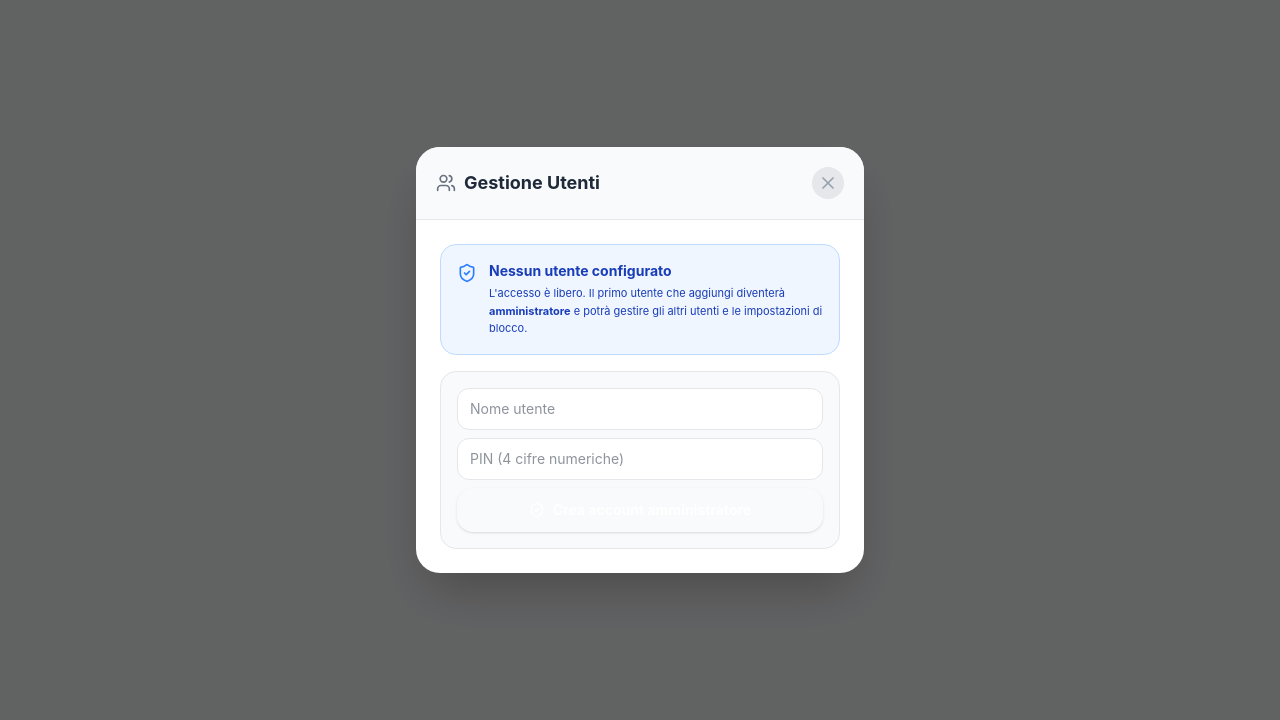
it: AddUserForm validation (first user) › shows an error when the PIN is less than 4 digits
The width and height of the screenshot is (1280, 720).
Type "Mario" into the field with placeholder "Nome utente" at (640, 409), box [457,388,823,430]
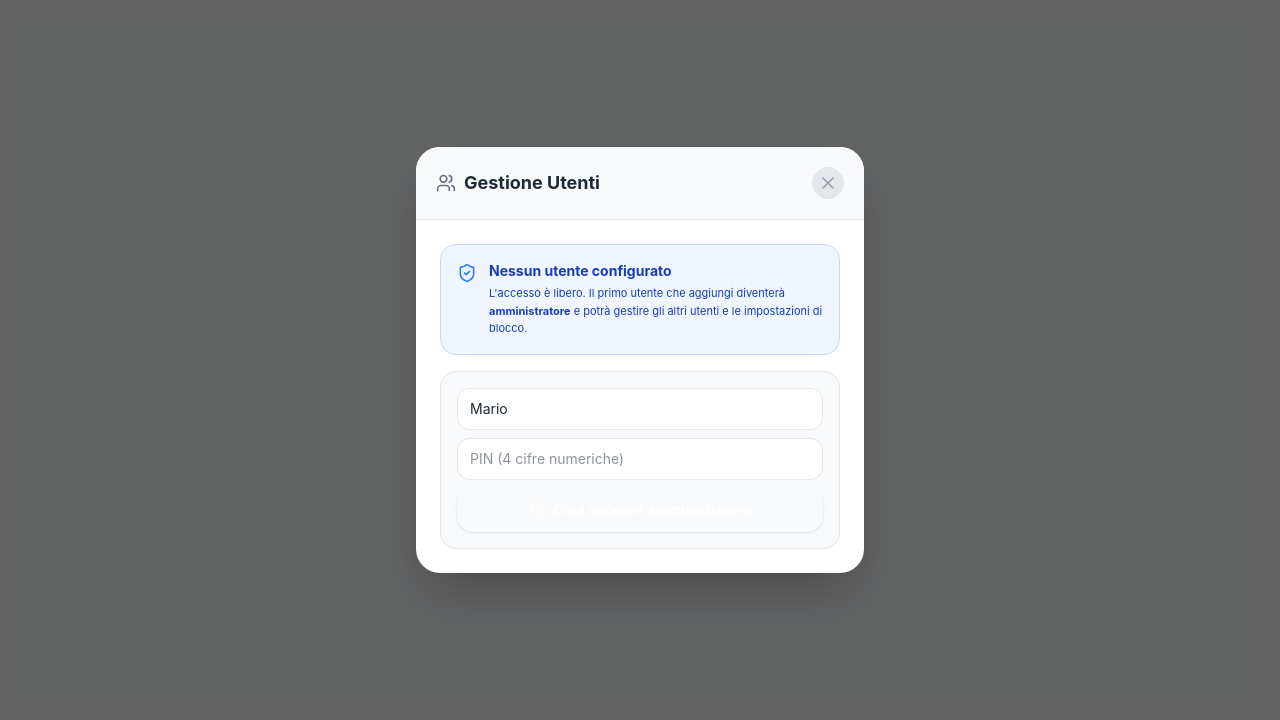
Type "12" into the password field with placeholder "PIN (4 cifre numeriche)" at (640, 459), box [457,438,823,480]
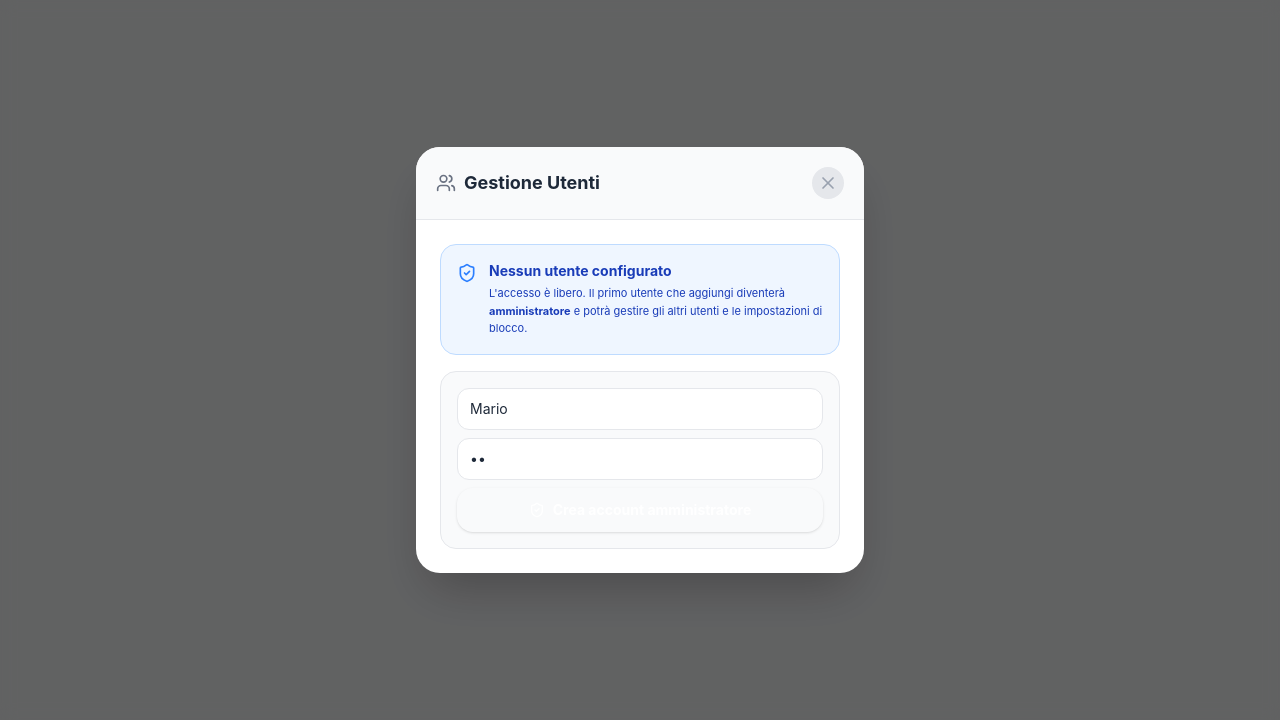
Click the button "Crea account amministratore" at (640, 510), box [457,488,823,532]
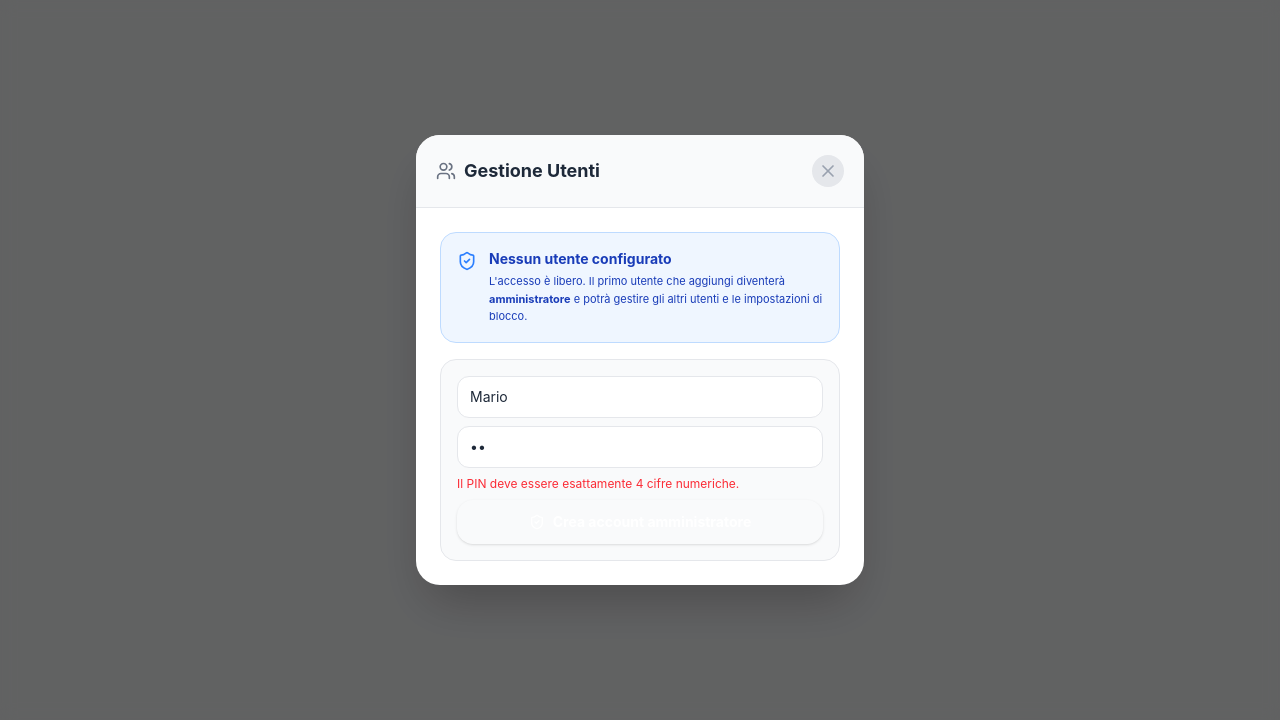
Expected: the text "Il PIN deve essere esattamente 4 cifre numeriche." is shown, [457,476,739,491]
